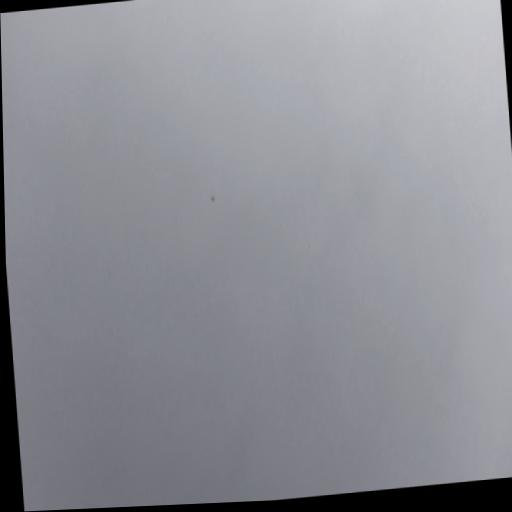drones: (210, 195, 215, 204)
